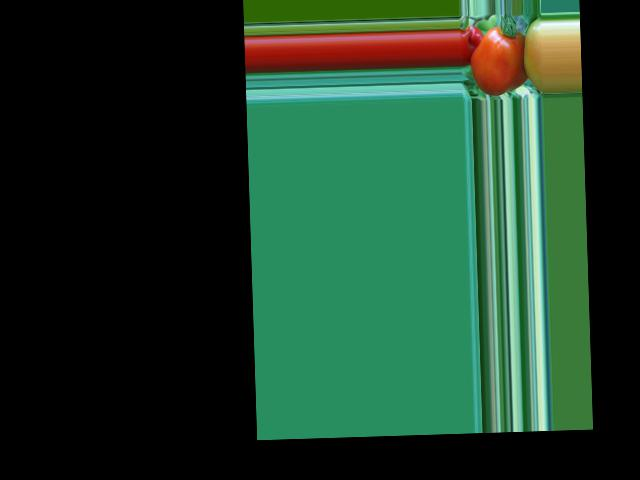tomato: (469, 26, 525, 96)
